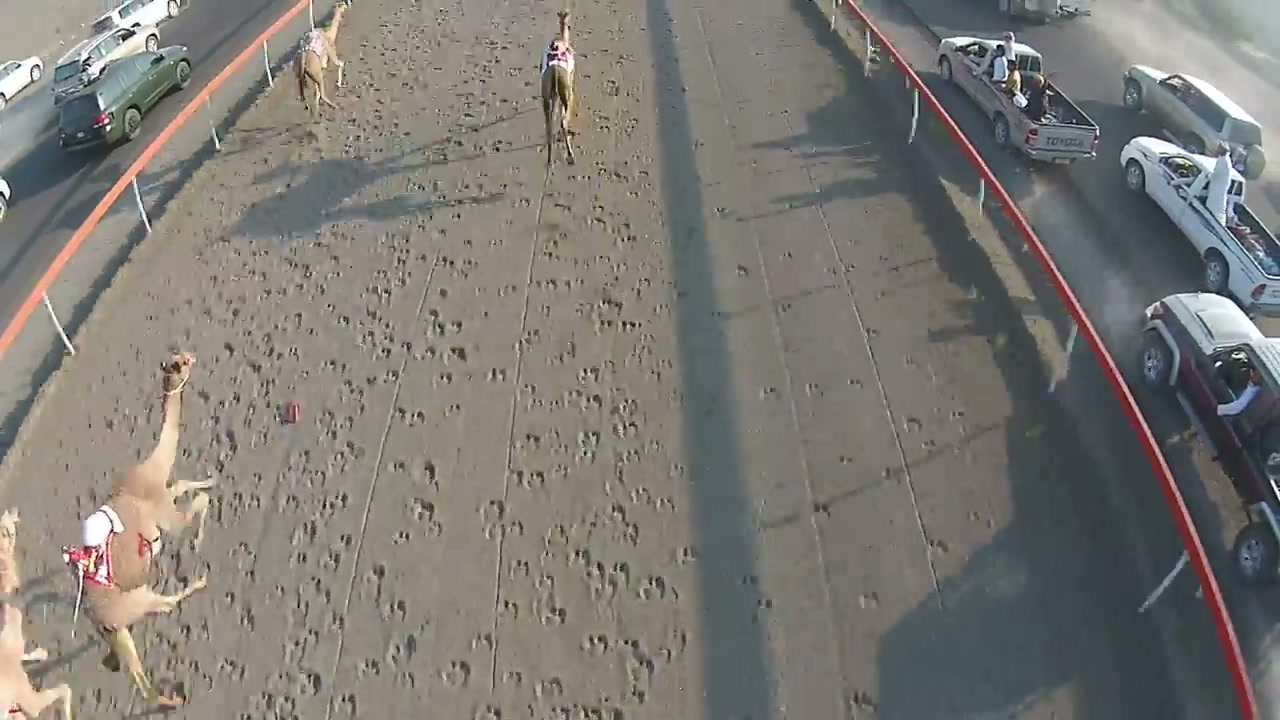animal_footprint: (468, 49, 655, 719), (162, 90, 342, 717), (306, 70, 480, 708)
